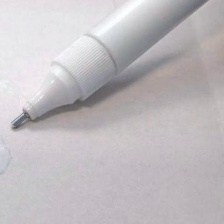correction_fluid: (5, 0, 224, 131)
